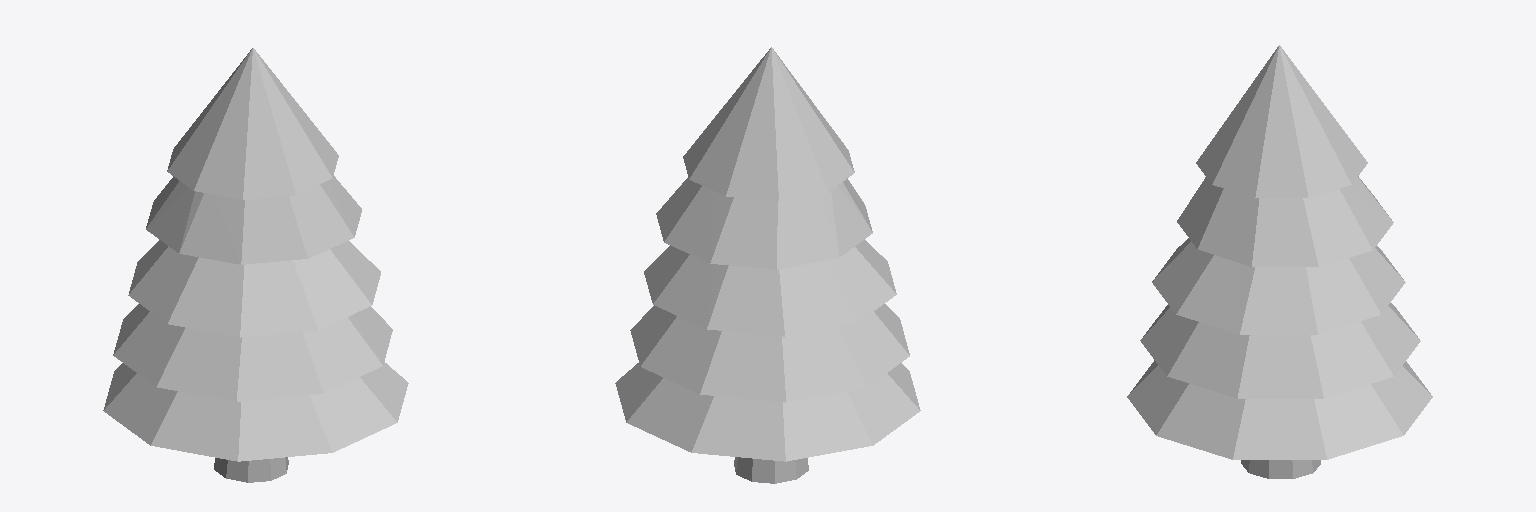
Rendered from treehill.obj.
3 renders of one model, left to right at view 1: azimuth 30°, elevation 25°; view 2: azimuth 150°, elevation 25°; view 3: azimuth 270°, elevation 25°, orthographic.
Size of the model in its own units: 3.49 by 5.41 by 3.58.